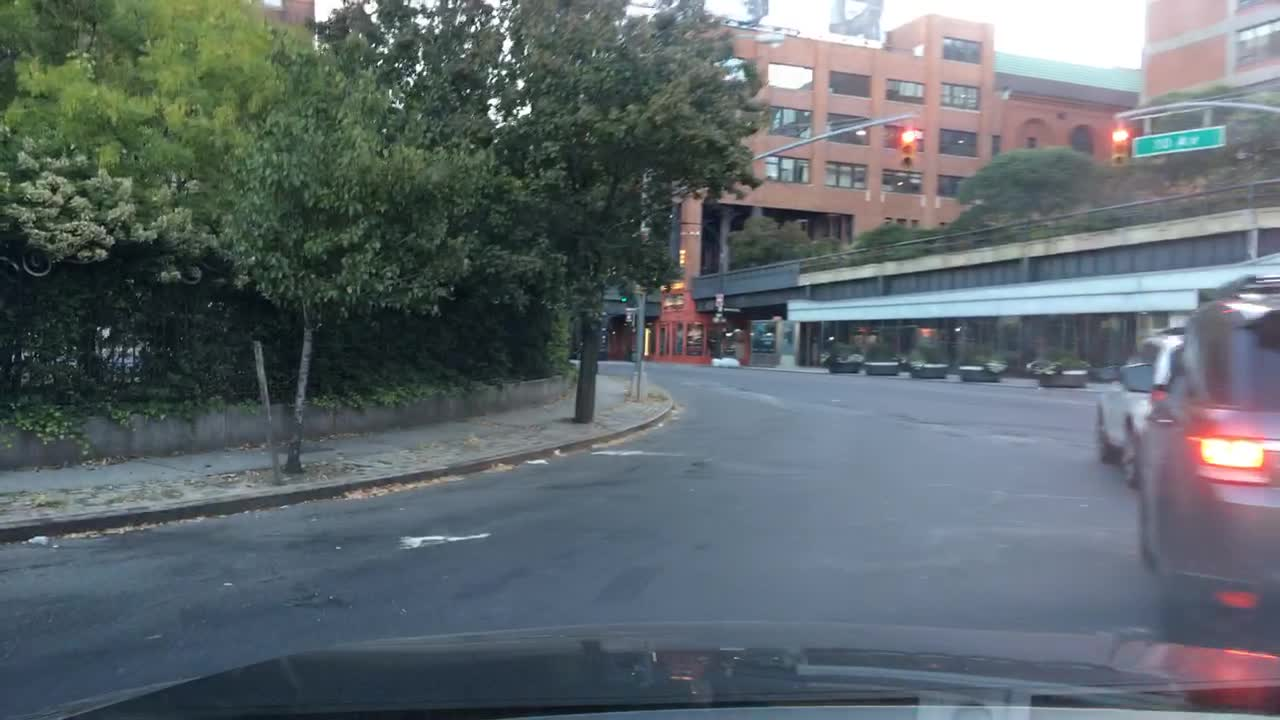car: (1137, 275, 1278, 657), (1094, 325, 1184, 488)
traffic light: (1111, 127, 1128, 169), (900, 125, 916, 164), (619, 291, 638, 310)
traffic sign: (1135, 125, 1226, 157)
